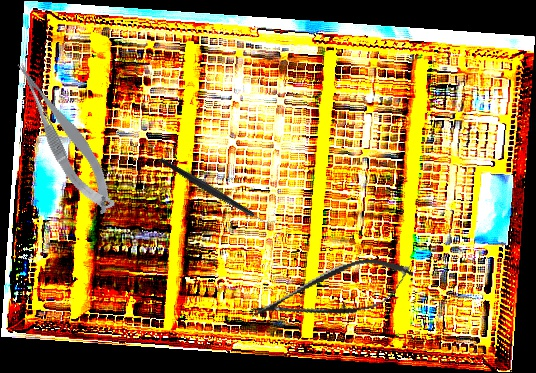Chopper: (158, 126, 277, 255)
Micro Scissor: (10, 51, 121, 222), (245, 247, 419, 339)
